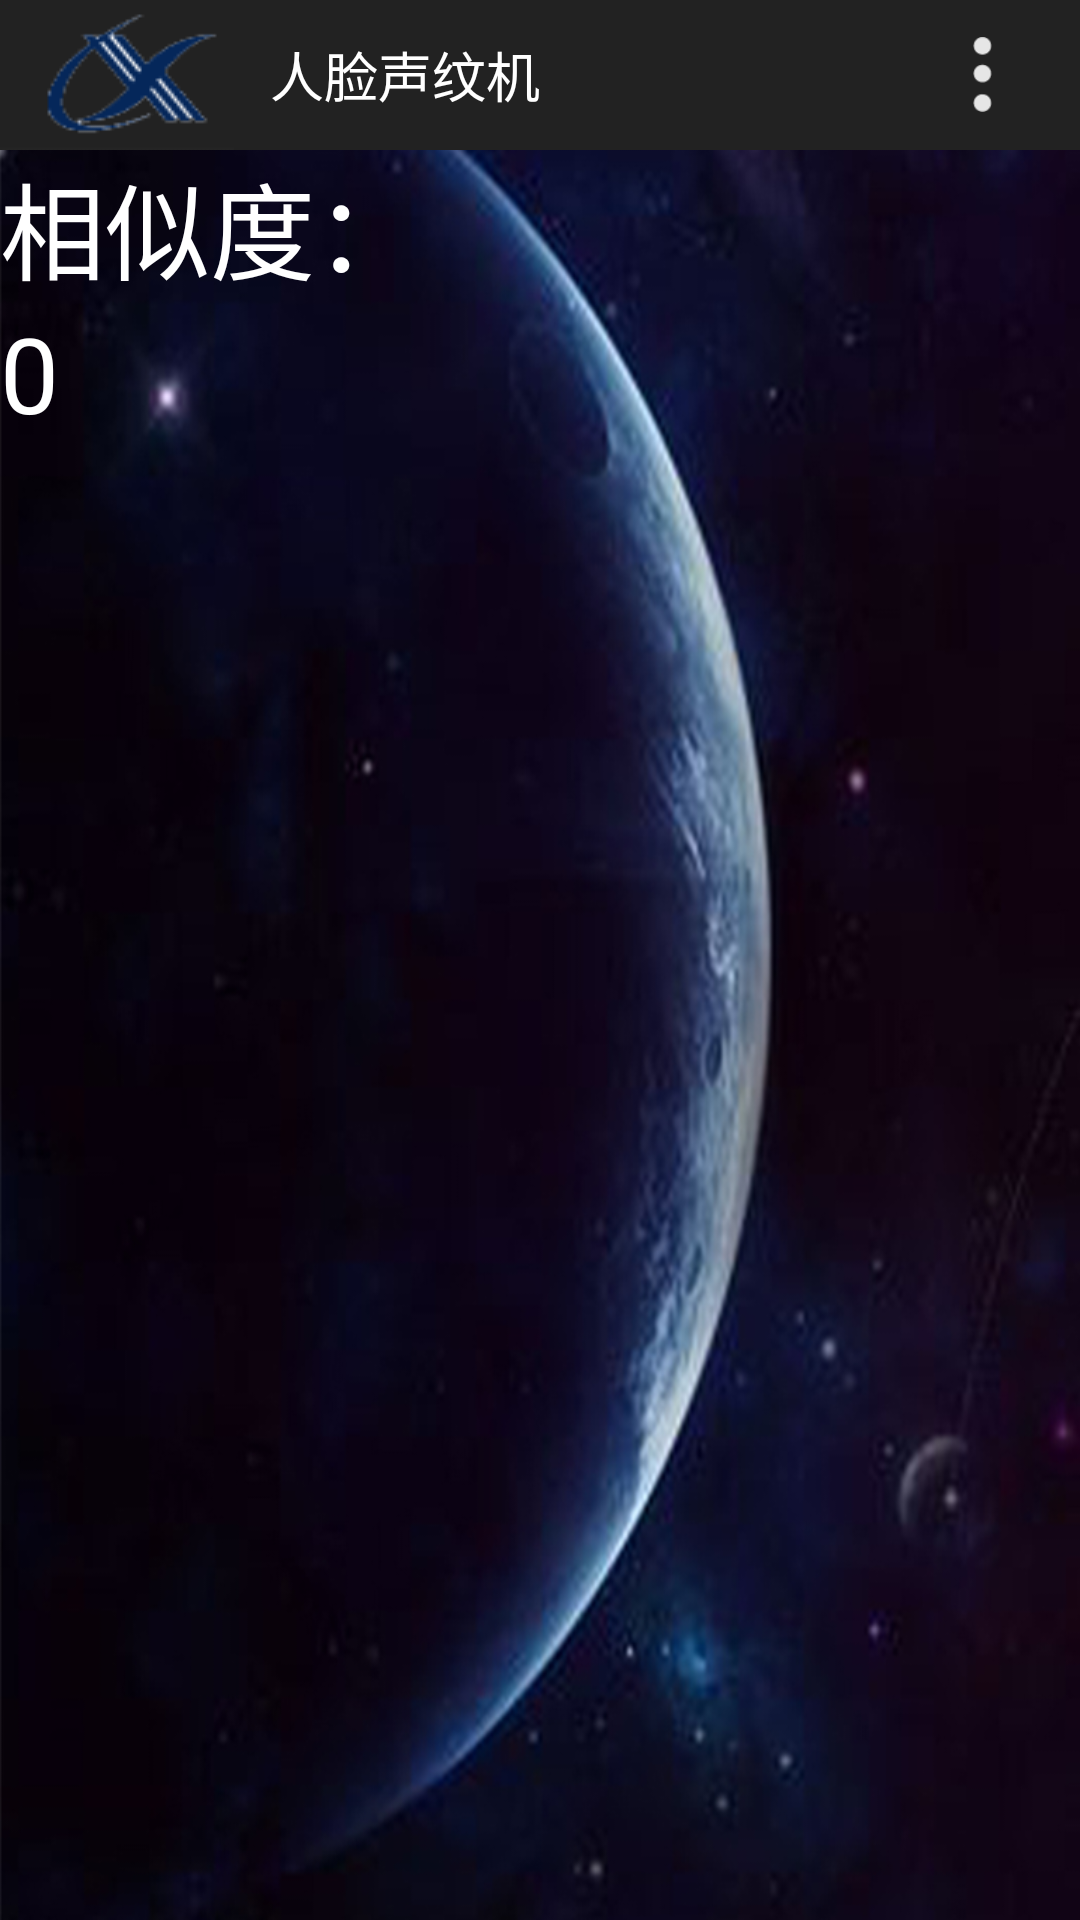

Icon bounding boxes for this 1080 x 1920 phone screenshot, format (x1, y1, x2, y2):
more: (973, 37, 992, 112)
